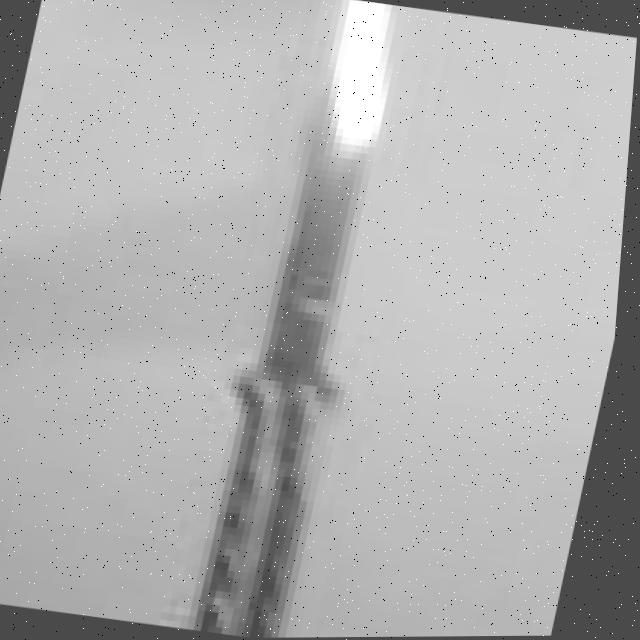knife: (189, 0, 435, 639)
